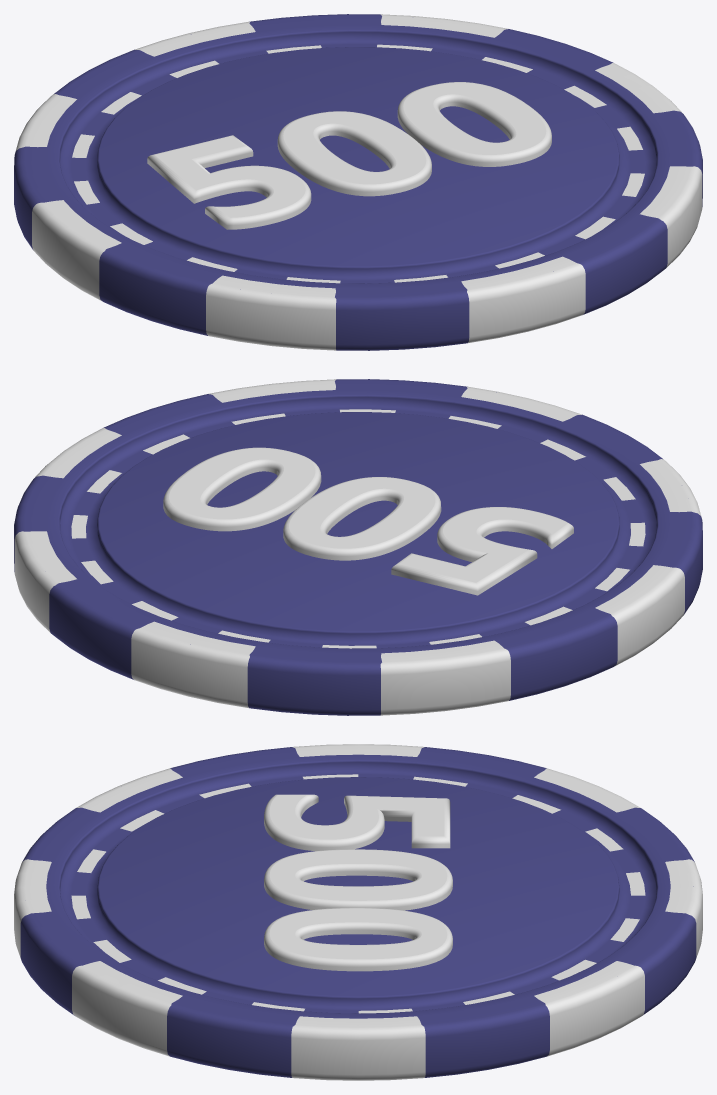
File: chip_500.glb
3 views of the same model, one above another, from view 1: azimuth 30°, elevation 25°; view 2: azimuth 150°, elevation 25°; view 3: azimuth 270°, elevation 25° (orthographic).
Parts seen in each view (by area): view 1: 500; view 2: 500; view 3: 500.
Part boxes in pixels (x1,y1,x2,y2): 500: (14,14,702,350); 500: (14,379,702,715); 500: (14,744,702,1080).
Size of the model in its own units: 0.0802 by 0.00911 by 0.0802.
